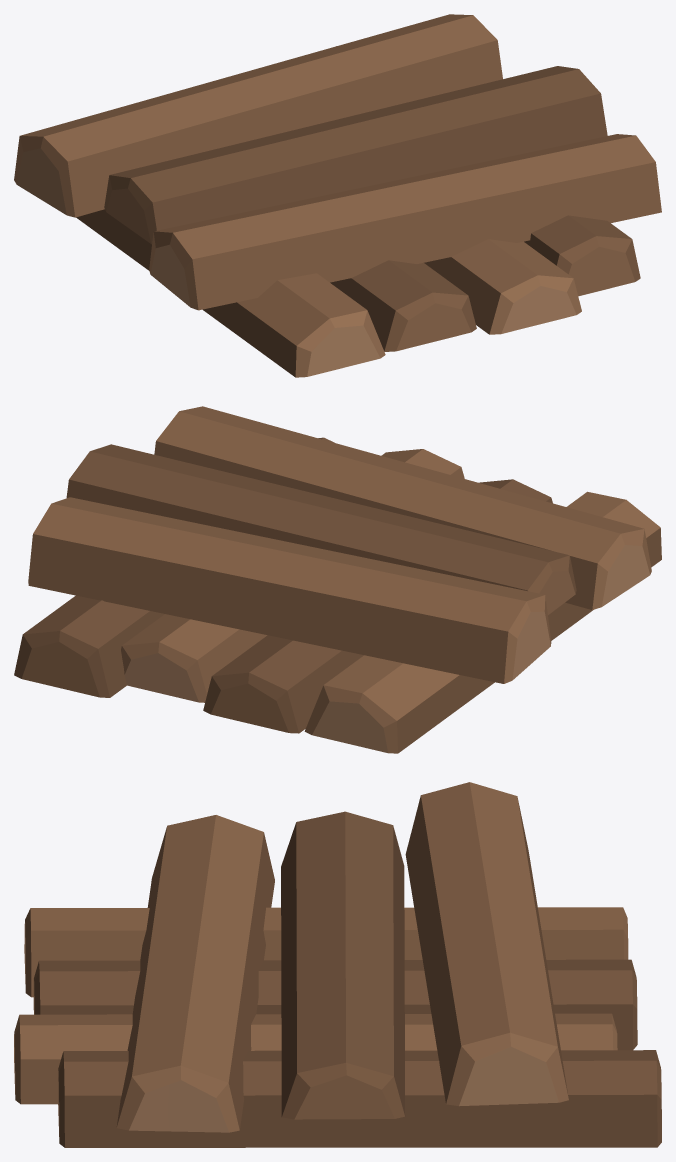
File: bonfire_10.fbx
3 views of the same model, one above another, from view 1: azimuth 30°, elevation 25°; view 2: azimuth 150°, elevation 25°; view 3: azimuth 270°, elevation 25° (orthographic). The views are drawn at different scales.
Parts seen in each view (by area): view 1: bonfire_10; view 2: bonfire_10; view 3: bonfire_10.
Boxes of the visible parts, left/top/right/bottom form: bonfire_10: left=14, top=14, right=661, bottom=377; bonfire_10: left=14, top=406, right=661, bottom=753; bonfire_10: left=14, top=782, right=661, bottom=1147.
Bounding box in the file's own units: 80.44 × 17.9 × 80.12.
1 material, 1 textured.
